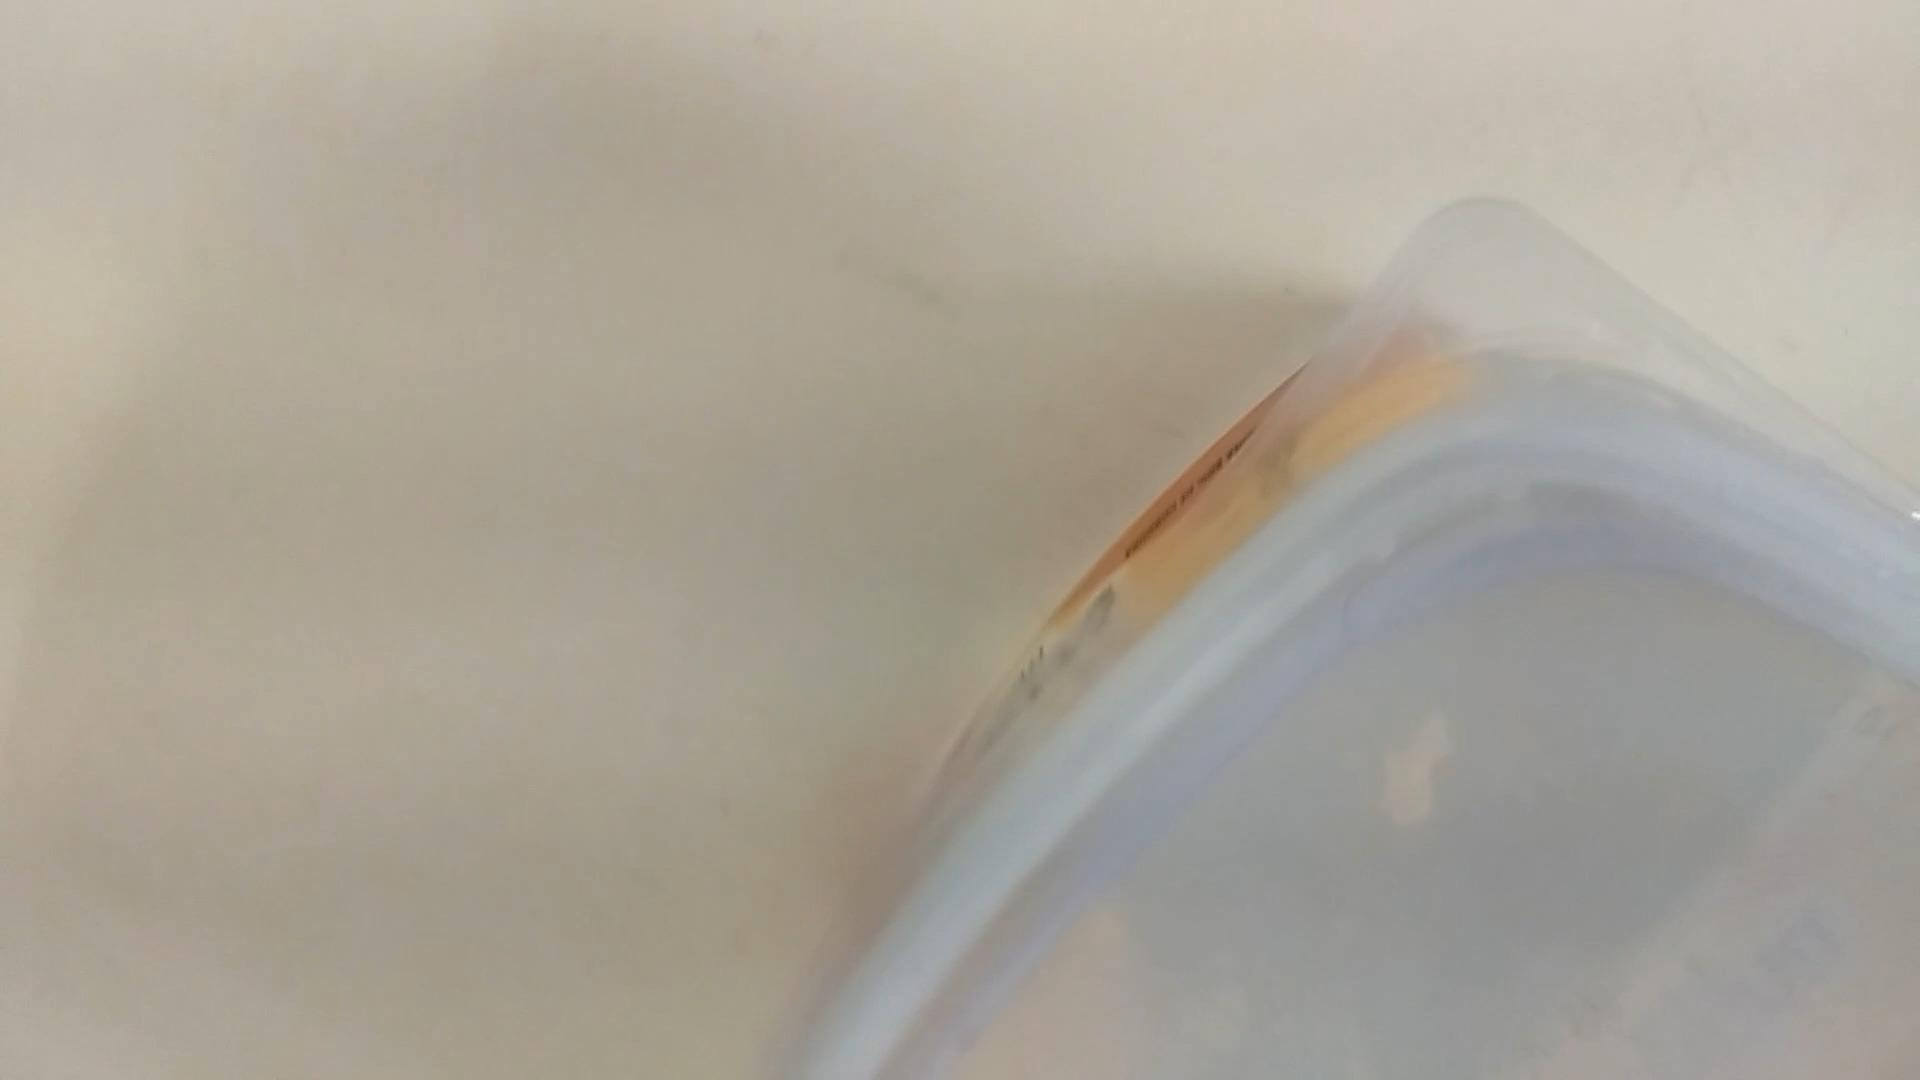butter: (760, 185, 1920, 1080)
